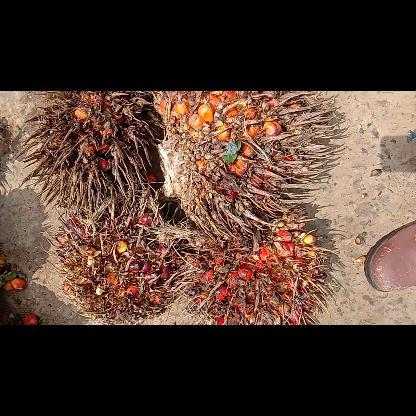Terlalu masak: (150, 90, 352, 244), (168, 196, 346, 324), (41, 174, 188, 324), (10, 90, 166, 206)
